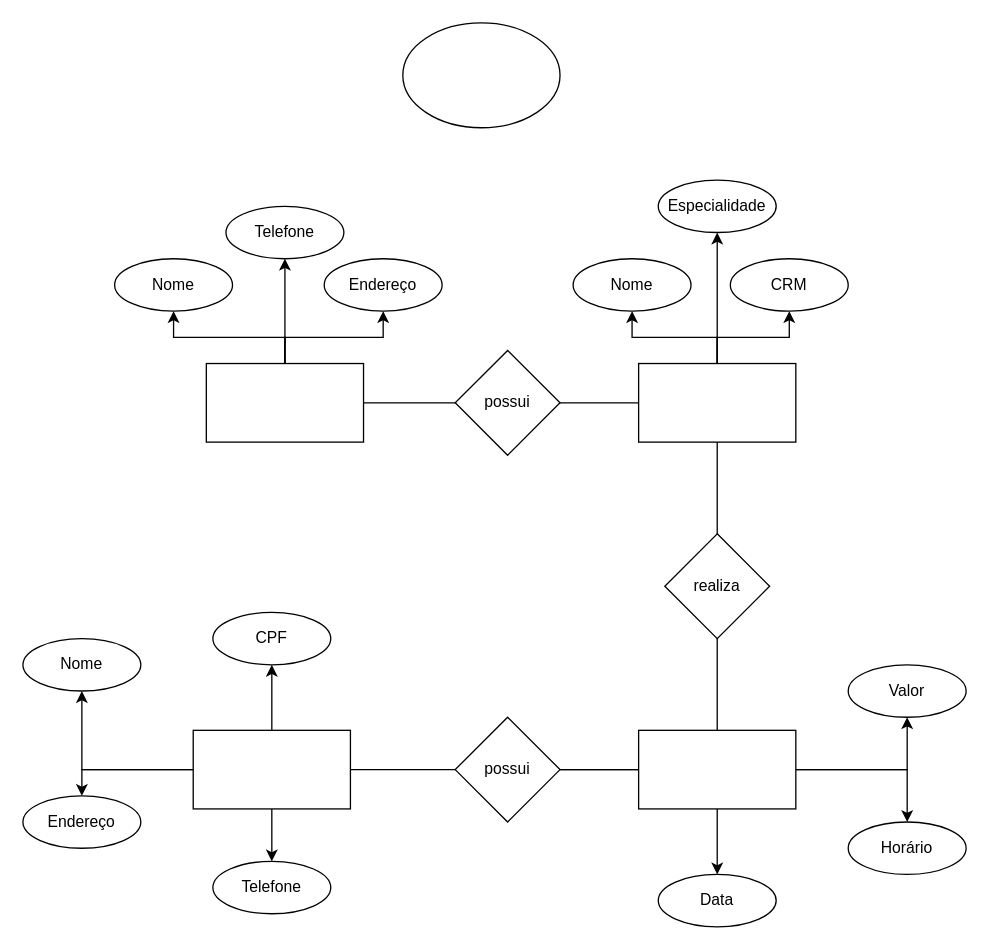
Some shapes in this 989 by 950 pixel diagram are drawn without their labels. Each missing label, with the centre of its shape:
clinica: pixel 284 402
CLINICA MEDICA: pixel 481 75
consulta: pixel 716 769
medico: pixel 716 402
paciente: pixel 271 769
